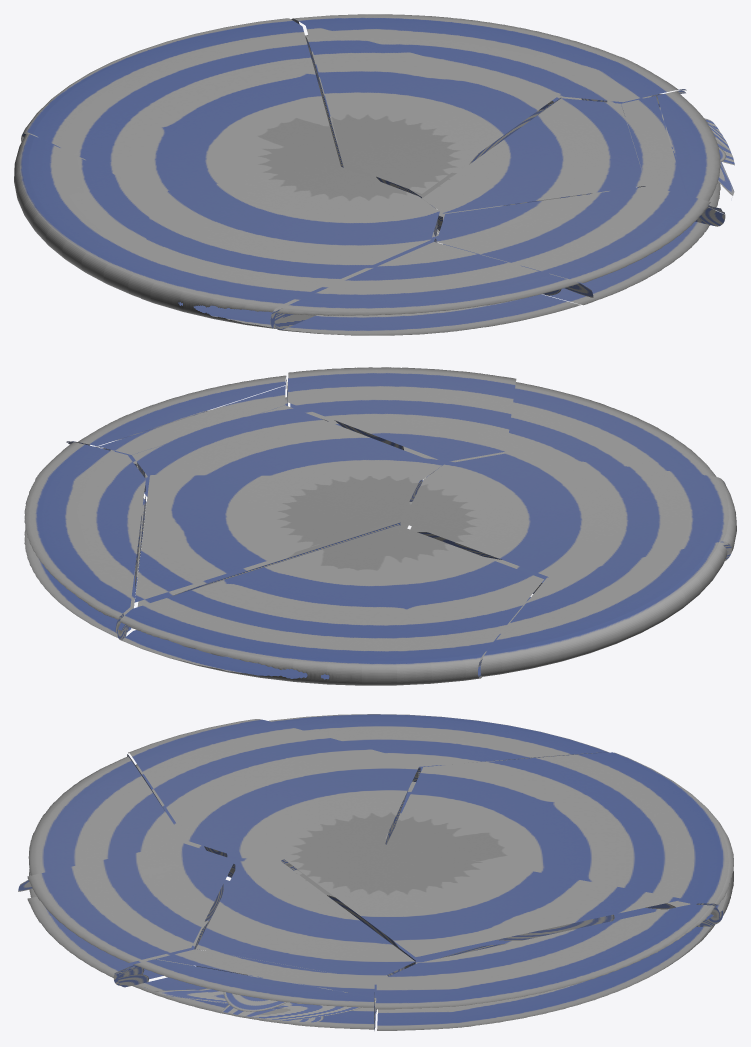
Rendered from BrokenFlyingModel.fbx.
3 views of the same model, one above another, from view 1: azimuth 30°, elevation 25°; view 2: azimuth 150°, elevation 25°; view 3: azimuth 270°, elevation 25° (orthographic).
Parts seen in each view (by area): view 1: Circle_cell.005, Circle_cell.003, Circle_cell, Circle_cell.001, Circle_cell.008, Circle_cell.007, Circle_cell.009, Circle_cell.006, Circle_cell.004, Circle_cell.002; view 2: Circle_cell.005, Circle_cell.003, Circle_cell, Circle_cell.007, Circle_cell.001, Circle_cell.006, Circle_cell.009, Circle_cell.008, Circle_cell.004, Circle_cell.002; view 3: Circle_cell.005, Circle_cell.003, Circle_cell, Circle_cell.007, Circle_cell.001, Circle_cell.009, Circle_cell.008, Circle_cell.006, Circle_cell.002, Circle_cell.004.
Boxes of the visible parts, <box> form: Circle_cell.005: <box>21,18,340,193</box>; Circle_cell.003: <box>140,166,439,328</box>; Circle_cell: <box>305,24,561,203</box>; Circle_cell.001: <box>436,186,725,305</box>; Circle_cell.008: <box>274,242,593,335</box>; Circle_cell.007: <box>291,14,686,123</box>; Circle_cell.009: <box>422,98,646,233</box>; Circle_cell.006: <box>14,134,152,298</box>; Circle_cell.004: <box>657,90,730,210</box>; Circle_cell.002: <box>621,96,734,224</box>; Circle_cell.005: <box>117,525,543,685</box>; Circle_cell.003: <box>402,453,736,582</box>; Circle_cell: <box>134,475,422,606</box>; Circle_cell.007: <box>24,441,146,637</box>; Circle_cell.001: <box>287,367,516,477</box>; Circle_cell.006: <box>480,542,727,676</box>; Circle_cell.009: <box>132,405,442,496</box>; Circle_cell.008: <box>504,382,716,476</box>; Circle_cell.004: <box>68,375,285,446</box>; Circle_cell.002: <box>95,376,287,474</box>; Circle_cell.005: <box>387,752,733,924</box>; Circle_cell.003: <box>127,719,420,877</box>; Circle_cell: <box>281,843,683,964</box>; Circle_cell.007: <box>376,905,719,1030</box>; Circle_cell.001: <box>27,843,235,985</box>; Circle_cell.009: <box>196,861,415,1001</box>; Circle_cell.008: <box>18,756,186,897</box>; Circle_cell.006: <box>269,714,609,784</box>; Circle_cell.002: <box>118,949,375,1030</box>; Circle_cell.004: <box>119,959,373,1020</box>.
Size of the model in its own units: 659 by 27.29 by 662.
